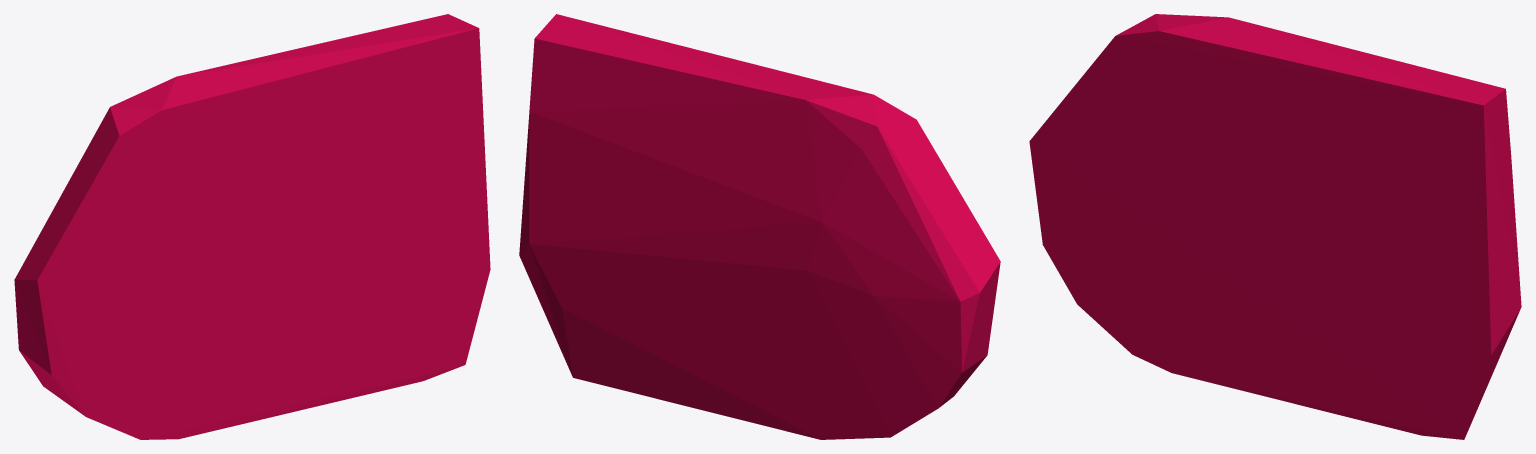
Rendered from hip-pitch_convex_piece_003.obj.
The picture shows the model from 3 angles, left to right: view 1: azimuth 30°, elevation 25°; view 2: azimuth 150°, elevation 25°; view 3: azimuth 330°, elevation 25°; orthographic projection. The views are drawn at different scales.
Size of the model in its own units: 0.1863 by 0.1323 by 0.0278.
